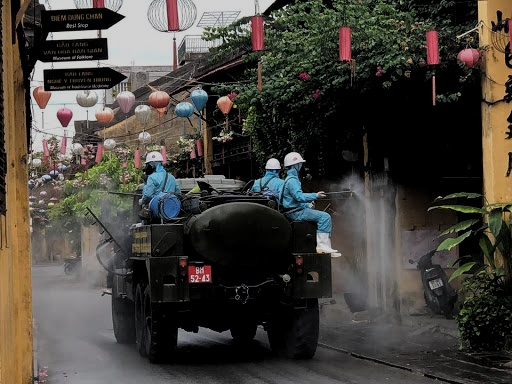plate: (187, 263, 212, 284)
